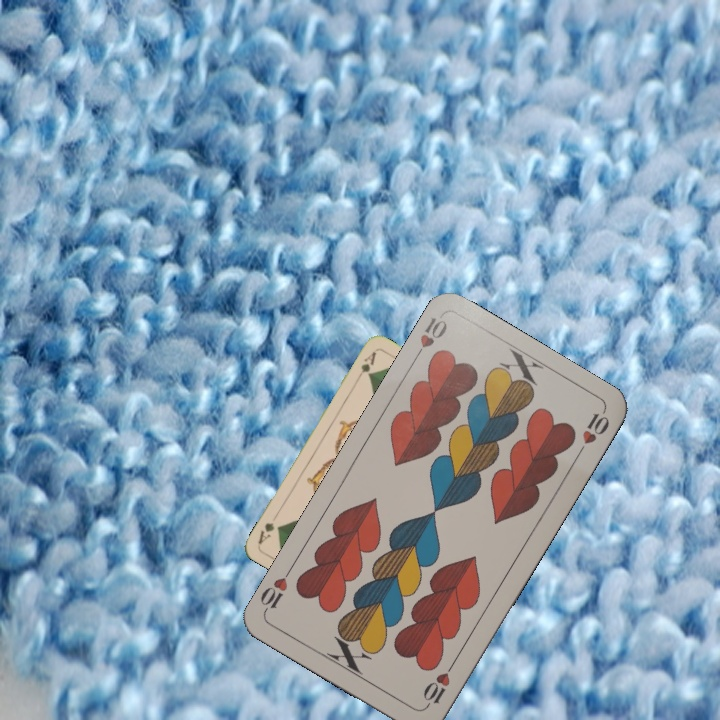GA: (352, 347, 379, 384)
H10: (418, 657, 458, 711), (409, 313, 450, 365)
